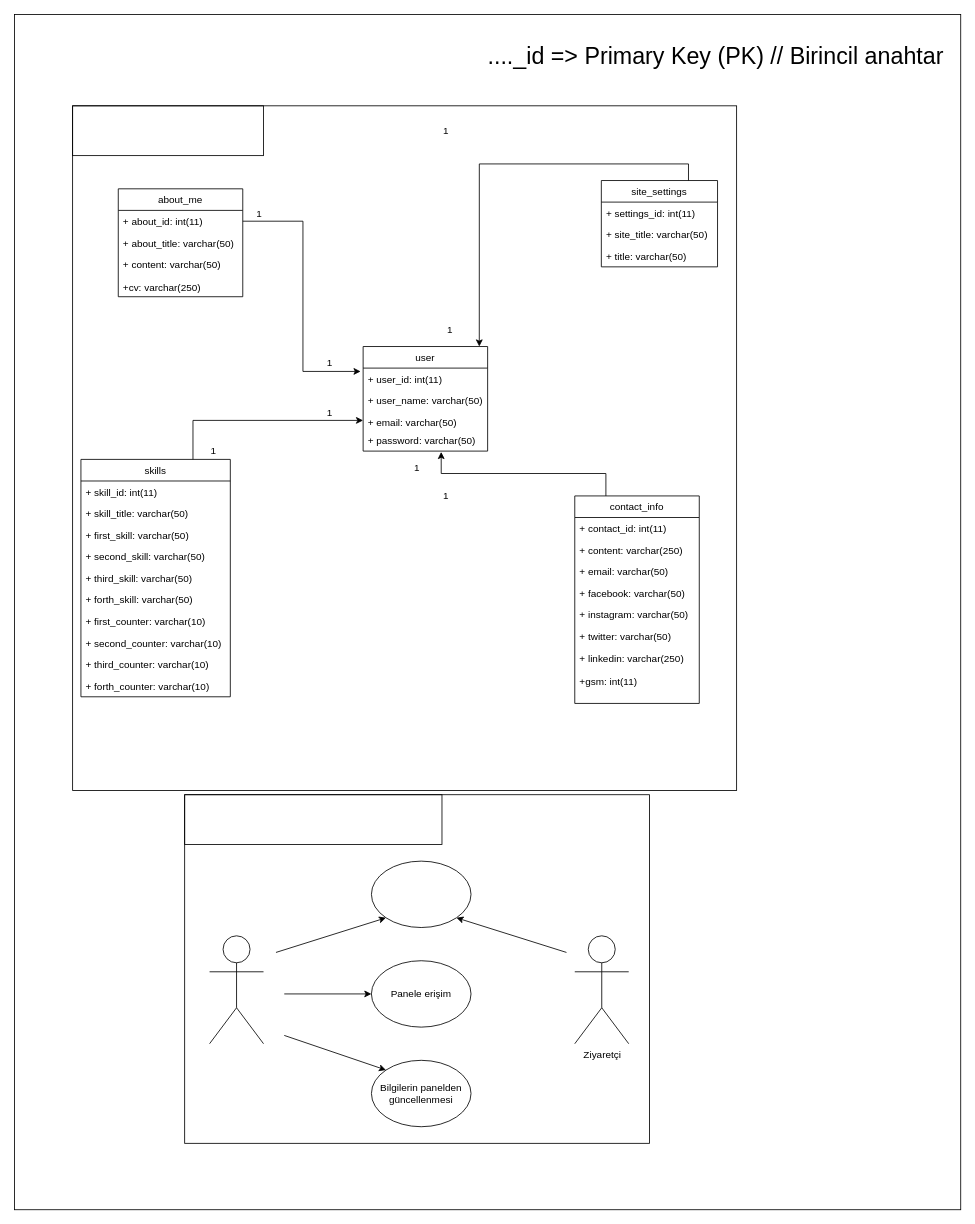
The diagram is 975 pixels wide and 1224 high, and some of its shapes have lost their labels. The shapes that lost their labels are listed below. From the top down, each one's centre as x and y in pixels, then its label:
[168,130]: UML Diyagram
[313,819]: Use case Diyagram
[421,894]: Siteyi görüntüleme
[236,989]: Admin
